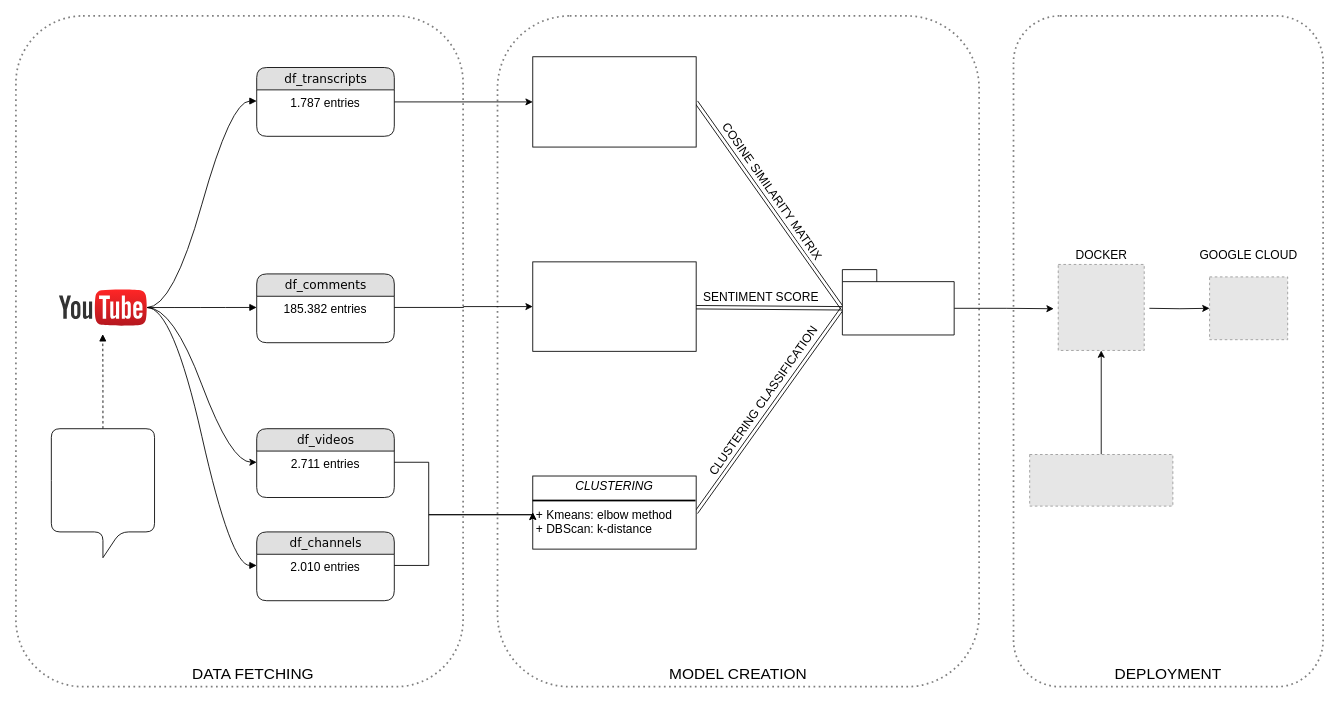
The diagram is 1338 pixels wide and 702 high, and some of its shapes have lost their labels. Grey dashed boxes stand in for pictures. The shapes that lost their labels are listed below. From the top down, each one's centre as x and y in pixels, then its label:
pixel 614 101: TF-IDF Matrix + Preprocess text + Wordcloud + Similarity Cosine Matrix
pixel 614 306: SENTIMENT ANALYSIS + Preprocess text + PySpark + RoBERTa (Huggingface)
pixel 898 302: ML MODEL
pixel 102 493: Queries: "IA in business" "Tech Automation" "Healthcare and IA" "..."
